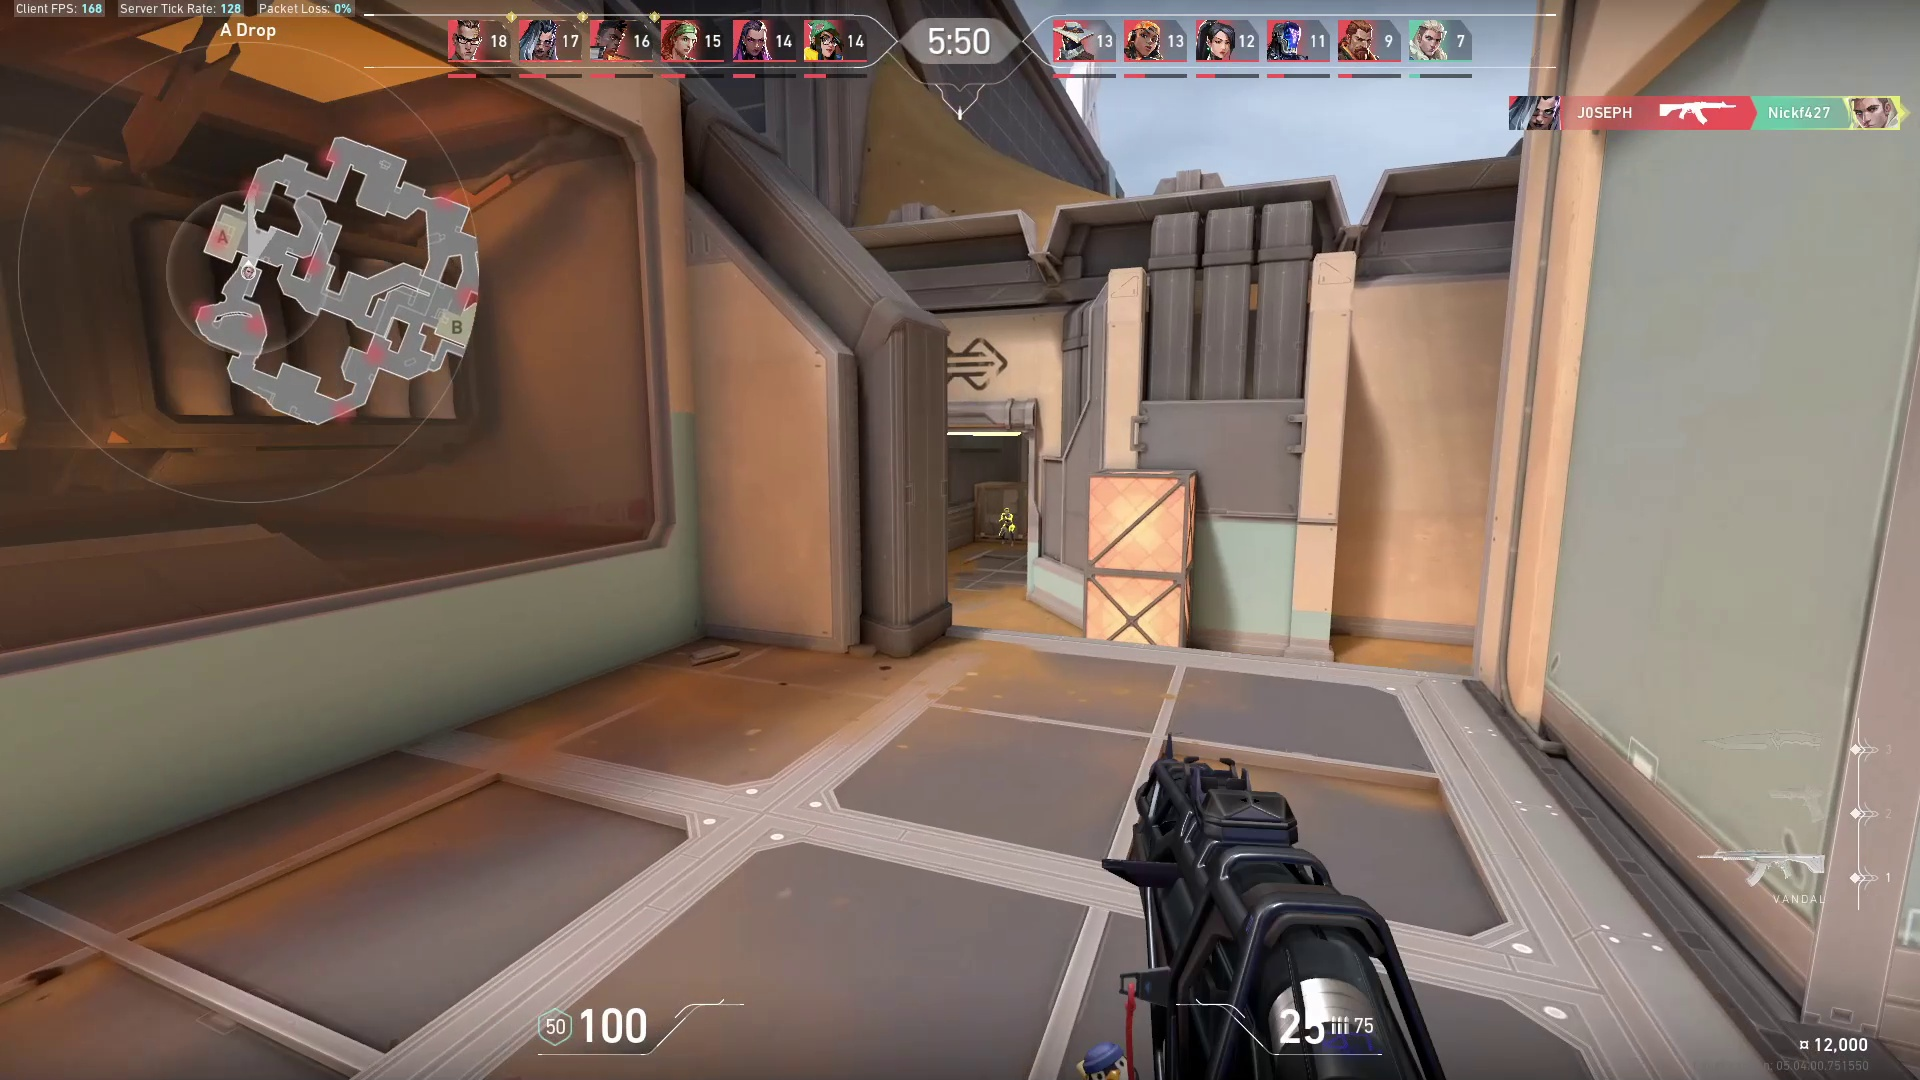enemy_body: (993, 517, 1021, 551)
enemy_head: (1000, 502, 1013, 517)
